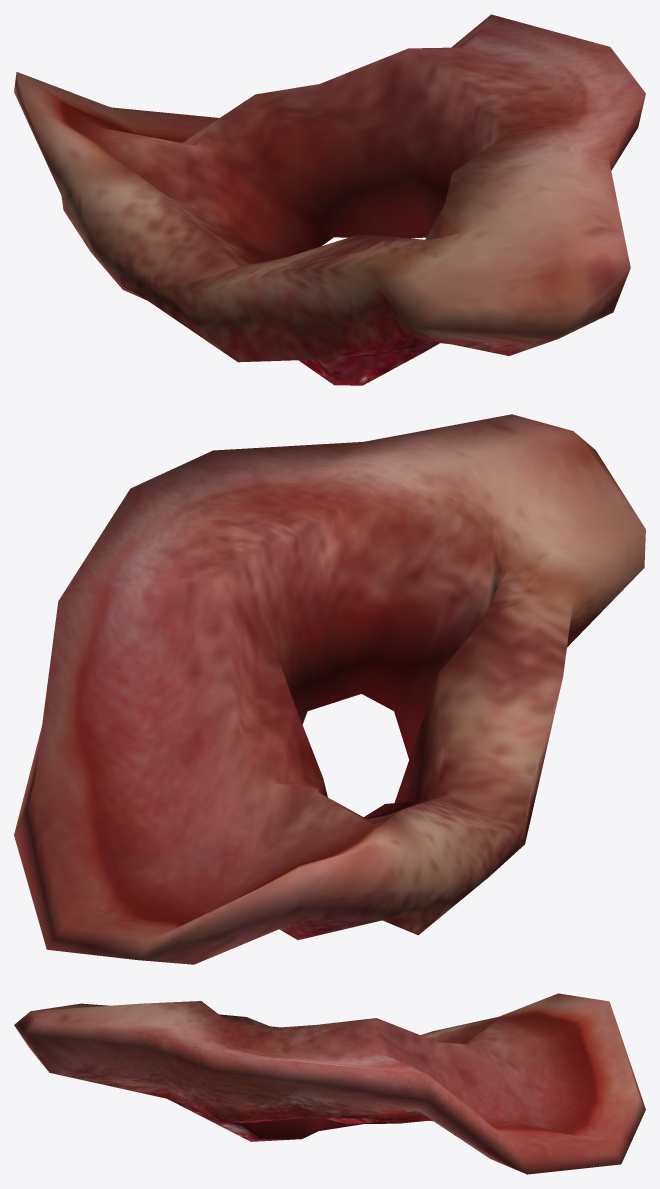
Rendered from Ear_5_low.fbx.
3 renders of one model, top to bottom at view 1: azimuth 30°, elevation 25°; view 2: azimuth 150°, elevation 25°; view 3: azimuth 270°, elevation 25°, orthographic. The views are drawn at different scales.
Parts seen in each view (by area): view 1: Ear_5_low; view 2: Ear_5_low; view 3: Ear_5_low.
Part boxes in pixels (<box>): Ear_5_low: <box>14,14,645,385</box>; Ear_5_low: <box>14,414,645,964</box>; Ear_5_low: <box>14,993,645,1174</box>.
Size of the model in its own units: 0.0252 by 0.0147 by 0.0471.
